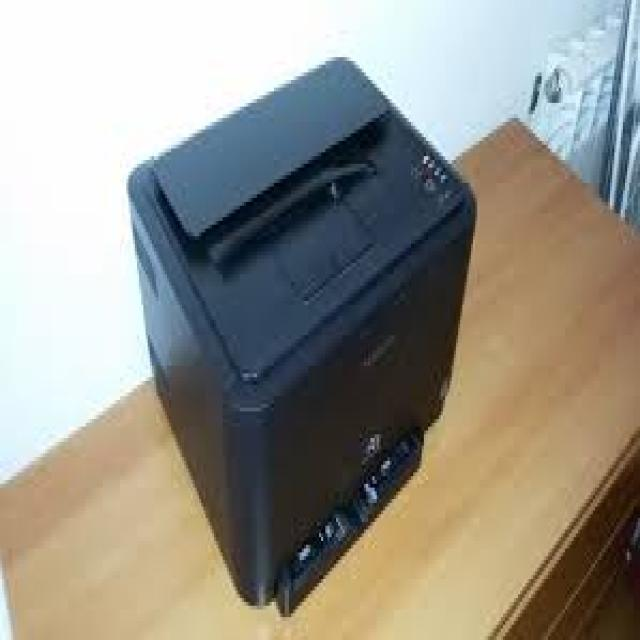printer: (127, 54, 482, 615)
